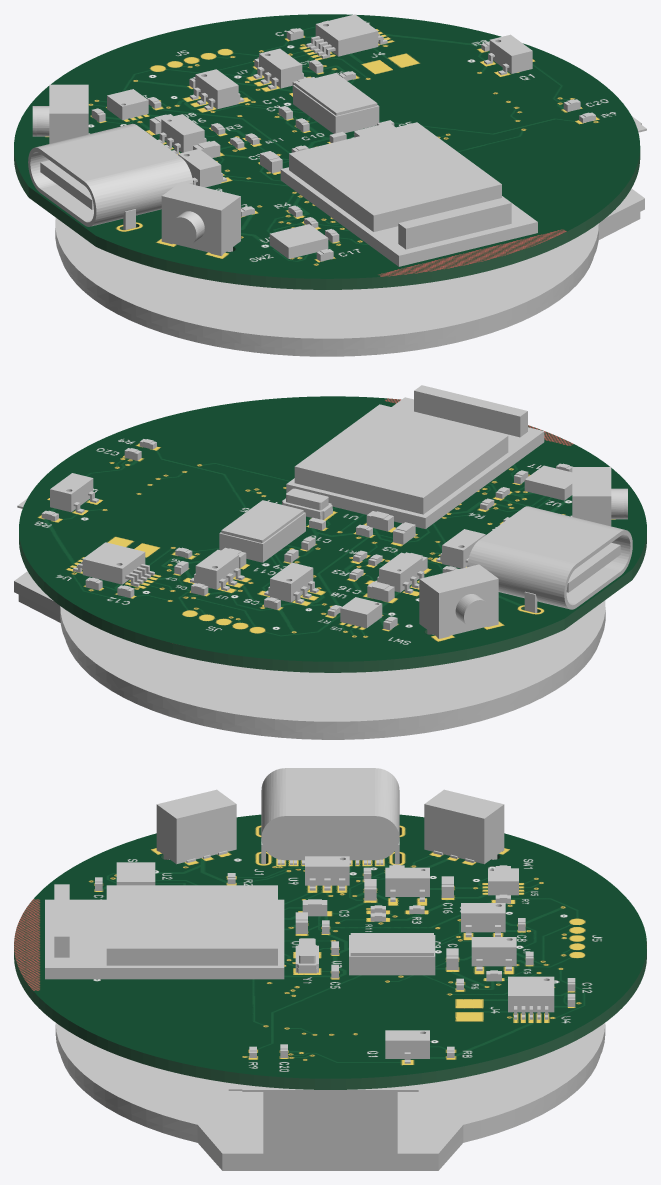
File: board.glb
3 renders of one model, top to bottom at view 1: azimuth 30°, elevation 25°; view 2: azimuth 150°, elevation 25°; view 3: azimuth 270°, elevation 25°, orthographic.
Visible parts, largest first — view 1: Box0, ds1, u1, j1, sw2, u3, sw1, u4, u8, u2, u7, q1 (+3 smaller); view 2: Box0, ds1, u1, j1, sw1, u3, sw2, u4, u8, u7, q1, u6 (+4 smaller); view 3: Box0, ds1, u1, j1, sw1, sw2, u3, u4, d1, u7, u6, u8 (+4 smaller).
Part boxes in pixels (box(x1,y1,x2,y2)): Box0: box(14, 14, 640, 289); ds1: box(55, 116, 646, 356); u1: box(280, 122, 537, 266); j1: box(28, 123, 193, 229); sw2: box(161, 182, 240, 255); u3: box(293, 73, 379, 133); sw1: box(32, 84, 90, 143); u4: box(306, 14, 387, 58); u8: box(189, 69, 244, 110); u2: box(269, 224, 328, 258); u7: box(253, 48, 306, 89); q1: box(484, 34, 532, 75); Box0: box(19, 396, 646, 672); ds1: box(14, 499, 605, 739); u1: box(286, 385, 544, 528); j1: box(467, 506, 632, 612); sw1: box(419, 564, 498, 638); u3: box(219, 500, 305, 562); sw2: box(570, 467, 627, 526); u4: box(73, 542, 154, 586); u8: box(264, 562, 318, 603); u7: box(190, 549, 244, 590); q1: box(50, 473, 98, 513); u6: box(374, 552, 424, 593); Box0: box(14, 814, 646, 1089); ds1: box(55, 1023, 605, 1170); u1: box(45, 884, 284, 979); j1: box(261, 768, 399, 864); sw1: box(424, 789, 504, 864); sw2: box(156, 789, 236, 864); u3: box(349, 933, 435, 975); u4: box(508, 976, 554, 1019); d1: box(305, 856, 349, 890); u7: box(471, 937, 516, 970); u6: box(385, 867, 429, 901); u8: box(461, 903, 505, 937).
Bounding box in the file's own units: 0.0405 × 0.0104 × 0.041.
Materials: 4 (2 with a texture image).
